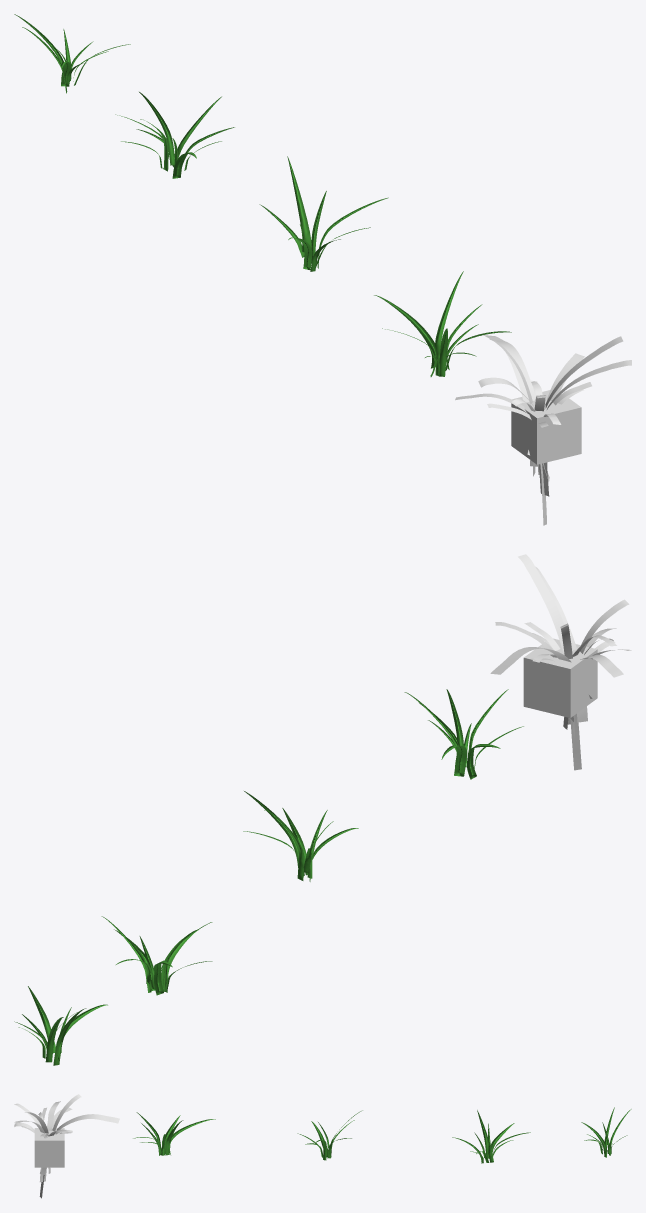
Rendered from grass1.fbx.
3 renders of one model, top to bottom at view 1: azimuth 30°, elevation 25°; view 2: azimuth 150°, elevation 25°; view 3: azimuth 270°, elevation 25°, orthographic. The views are drawn at different scales.
Visible parts, largest first — view 1: Cube, 平面.001; view 2: Cube, 平面.037, 平面.055; view 3: Cube, 平面.001, 平面.055, 平面.003.
Boxes of the visible parts, x1,y1,x2,y2 form: Cube: [511, 390, 581, 464]; 平面.001: [483, 335, 535, 402]; Cube: [523, 638, 597, 717]; 平面.037: [518, 554, 572, 724]; 平面.055: [560, 623, 581, 770]; Cube: [34, 1128, 64, 1167]; 平面.001: [56, 1114, 119, 1130]; 平面.055: [39, 1094, 81, 1198]; 平面.003: [47, 1101, 60, 1130].
Size of the model in its own units: 663 by 773 by 4147.
